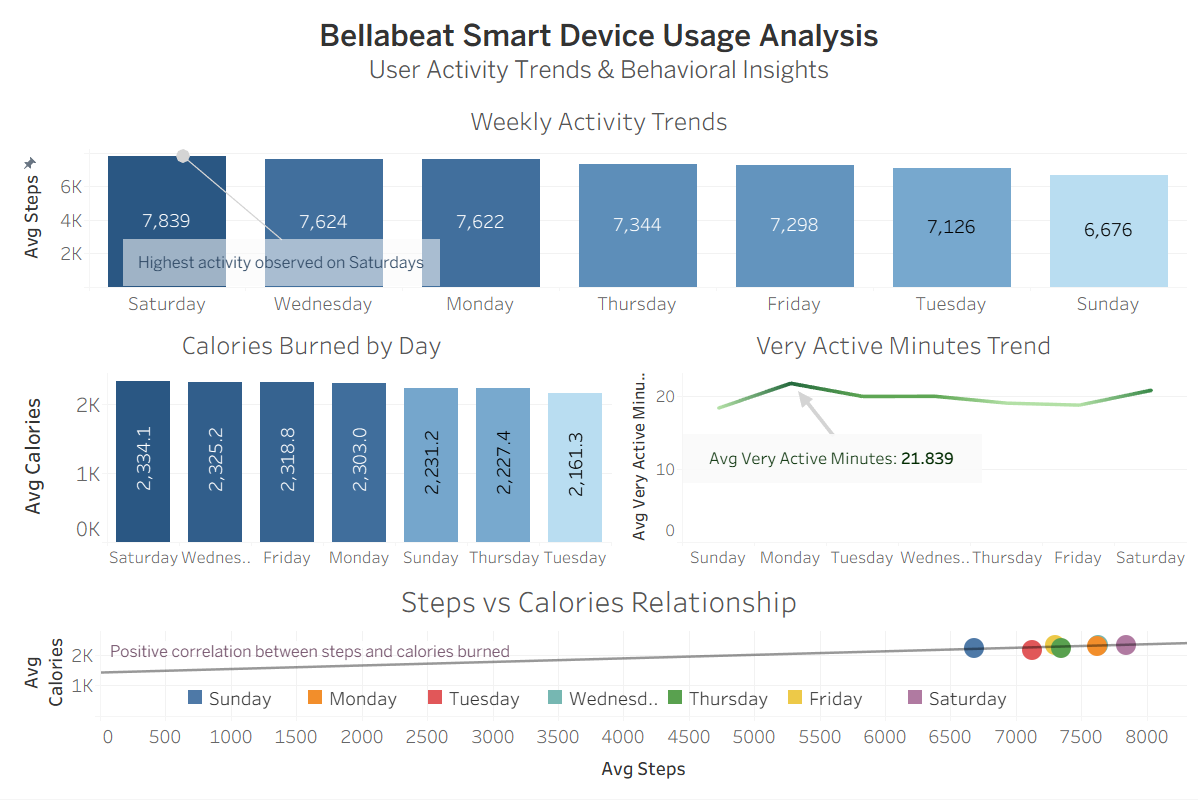

The dashboard page shown, as its layout file describes it:
{"tool":"tableau","page":{"name":"Bellabeat Dashboard","canvas":[1200,800],"ordinal":0},"visuals":[{"type":"text","box":[8,8,1184,89]},{"type":"worksheet","title":"Weekly Activity Trends","mark":"Bar","rows":["avg_steps"],"cols":["DayOfWeek"],"box":[8,97,1184,223.8]},{"type":"worksheet","title":"Calories Burned by Day","mark":"Automatic","rows":["avg_calories"],"cols":["DayOfWeek"],"box":[8,320.8,632,253.1]},{"type":"worksheet","title":"Very Active Minutes Trend","mark":"Line","rows":["avg_very_active_minutes"],"cols":["DayOfWeek"],"box":[640,320.8,552,253.1]},{"type":"worksheet","title":"Steps vs Calories Relationship","mark":"Circle","rows":["avg_calories"],"cols":["avg_steps"],"box":[8,573.9,1184,218.1]}]}

Visuals, with their boxes in screenshot pixels (x1, y1, x2, y2), scaled from the page's 1200x800 canvas onto the 1198x800 screenshot:
text: box=[8, 8, 1190, 97]
"Weekly Activity Trends" worksheet (Bar marks): box=[8, 97, 1190, 321]
"Calories Burned by Day" worksheet: box=[8, 321, 639, 574]
"Very Active Minutes Trend" worksheet (Line marks): box=[639, 321, 1190, 574]
"Steps vs Calories Relationship" worksheet (Circle marks): box=[8, 574, 1190, 792]
